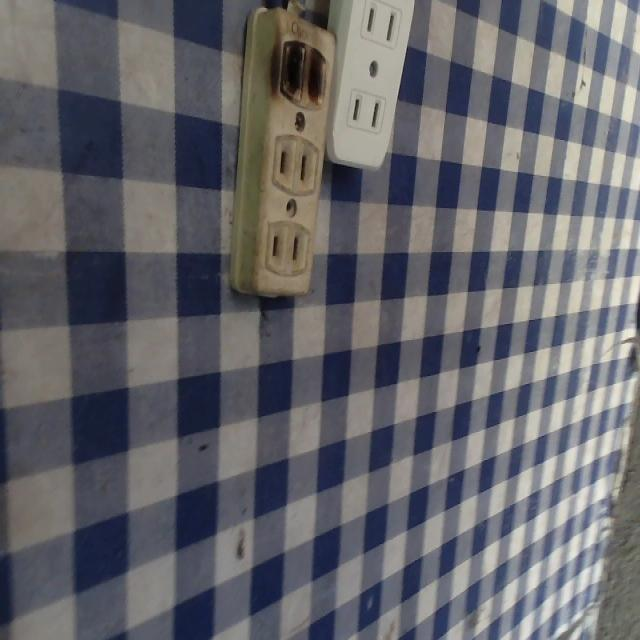-: (254, 19, 331, 112)
